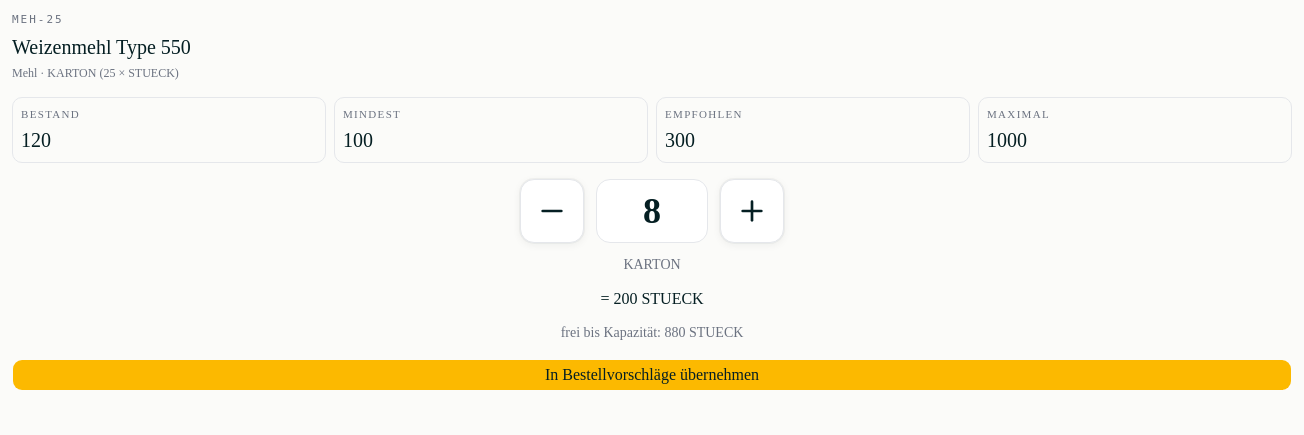
Test case: ArticleOrderCard › überschreibt eine bereits geänderte Menge nicht mit dem offenen Vorschlag
Replace the text in the field named "Bestellmenge" with "11" at coordinates (652, 211), box [596,179,708,243]
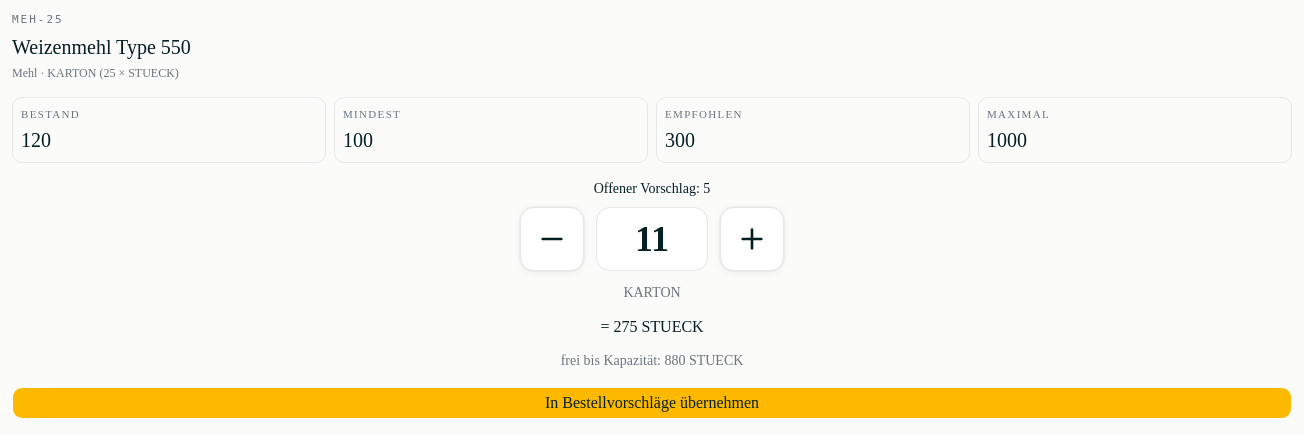
Result: the text "Offener Vorschlag: 5" is shown at [594,181,710,196]
